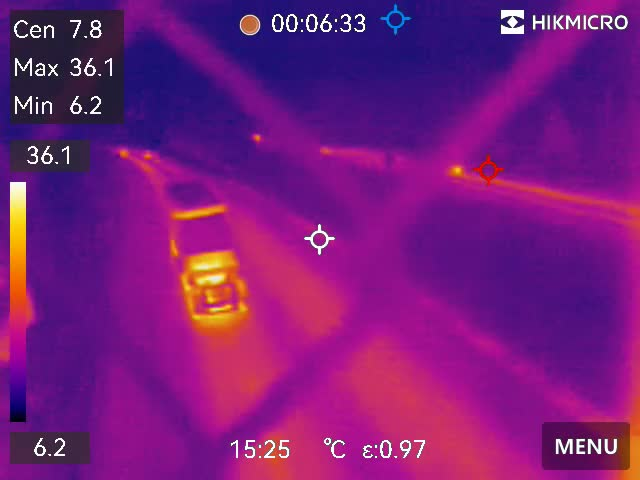heavyTruck: (164, 183, 263, 329)
